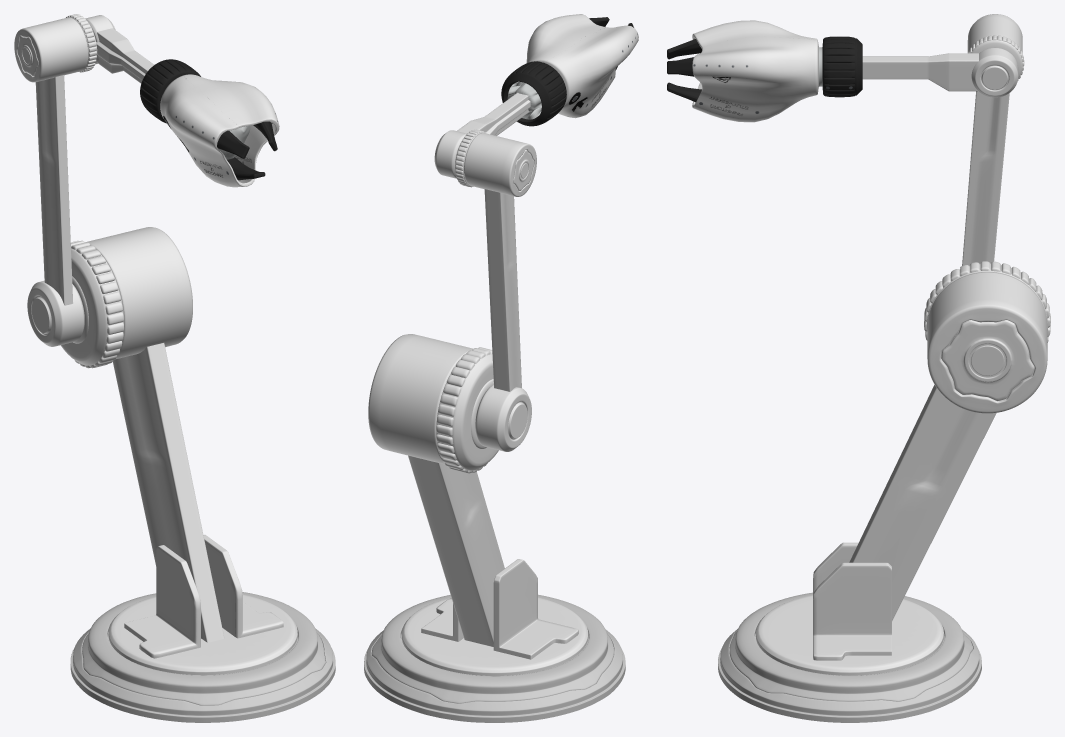
File: arm_5.fbx
The picture shows the model from 3 angles, left to right: view 1: azimuth 30°, elevation 25°; view 2: azimuth 150°, elevation 25°; view 3: azimuth 270°, elevation 25°; orthographic projection.
Visible parts, largest first — view 1: Plane.005, Plane.001, Plane, Plane.004, Plane.003; view 2: Plane.005, Plane.001, Plane.004, Plane.003, Plane; view 3: Plane.005, Plane.003, Plane.001, Plane, Plane.004.
Boxes of the visible parts, box(x1,y1,x2,y2) form: Plane.005: box(61, 227, 224, 642); Plane.001: box(70, 592, 335, 722); Plane: box(108, 535, 297, 675); Plane.004: box(14, 14, 97, 346); Plane.003: box(85, 15, 279, 187); Plane.005: box(368, 334, 504, 646); Plane.001: box(364, 594, 625, 722); Plane.004: box(455, 129, 536, 451); Plane.003: box(434, 14, 638, 178); Plane: box(401, 559, 588, 675); Plane.005: box(849, 261, 1050, 620); Plane.003: box(667, 20, 1018, 122); Plane.001: box(718, 592, 981, 722); Plane: box(755, 542, 943, 675); Plane.004: box(962, 14, 1024, 265).
Bounding box in the file's own units: 562 × 1441 × 817.
